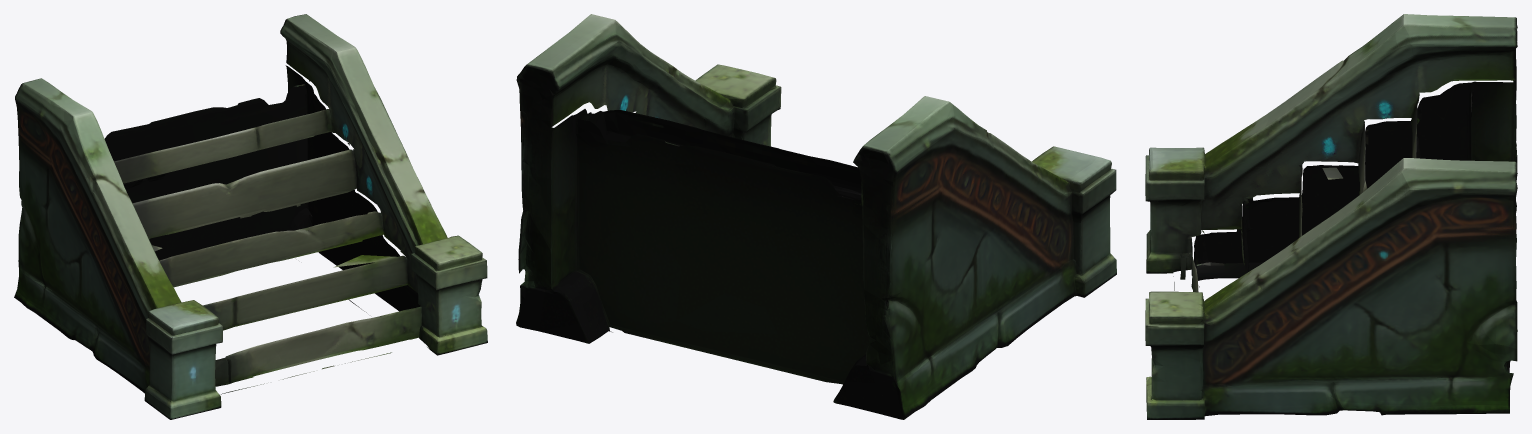
The model's file is stairs_stone.glb.
3 renders of one model, left to right at view 1: azimuth 30°, elevation 25°; view 2: azimuth 150°, elevation 25°; view 3: azimuth 270°, elevation 25°, orthographic. The views are drawn at different scales.
Parts seen in each view (by area): view 1: world; view 2: world; view 3: world.
Boxes of the visible parts, x1,y1,x2,y2 form: world: (14, 14, 487, 419); world: (516, 14, 1116, 419); world: (1145, 14, 1517, 419).
Bounding box in the file's own units: 0.596 × 0.3887 × 0.5398.
Materials: 1 (1 with a texture image).
